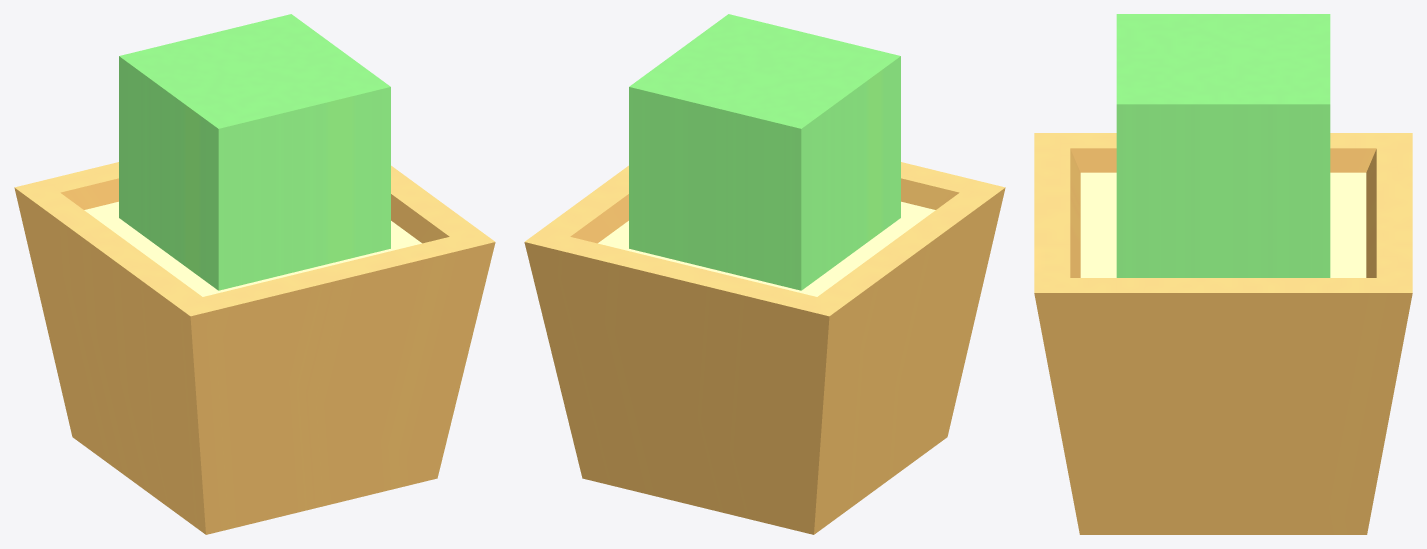
Rendered from trees.005.glb.
The picture shows the model from 3 angles, left to right: view 1: azimuth 30°, elevation 25°; view 2: azimuth 150°, elevation 25°; view 3: azimuth 270°, elevation 25°; orthographic projection. The views are drawn at different scales.
Parts seen in each view (by area): view 1: trees.005(Clone); view 2: trees.005(Clone); view 3: trees.005(Clone).
Part boxes in pixels (<box>): trees.005(Clone): <box>14,14,495,534</box>; trees.005(Clone): <box>524,14,1005,534</box>; trees.005(Clone): <box>1034,14,1412,534</box>.
Bounding box in the file's own units: 1.06 × 1.28 × 1.06.
Materials: 1 (1 with a texture image).
